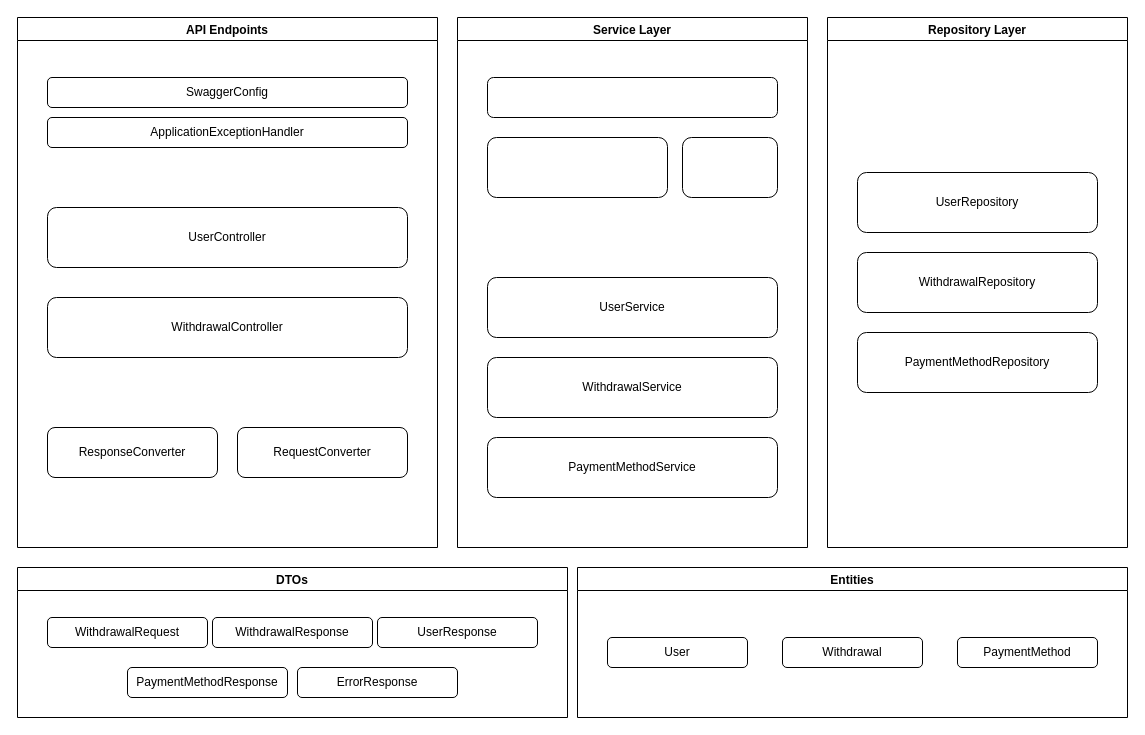
Some shapes in this 1145 by 735 pixel diagram are drawn without their labels. Here are the shapes that lost their labels. From the top down, the centre of each, then its label:
the point at 632,97: WithdrawalExecutor
the point at 577,167: WithdrawalProcessingService
the point at 730,167: EventsService
